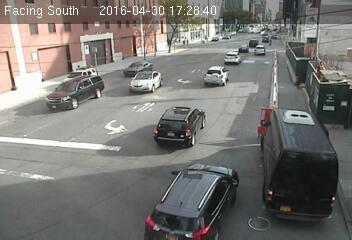neg: (9, 48, 43, 93), (26, 142, 58, 184), (165, 134, 196, 176), (119, 179, 149, 219), (258, 107, 286, 143), (90, 113, 115, 147), (83, 39, 106, 70), (130, 64, 150, 90), (292, 53, 310, 77), (189, 67, 207, 90)
